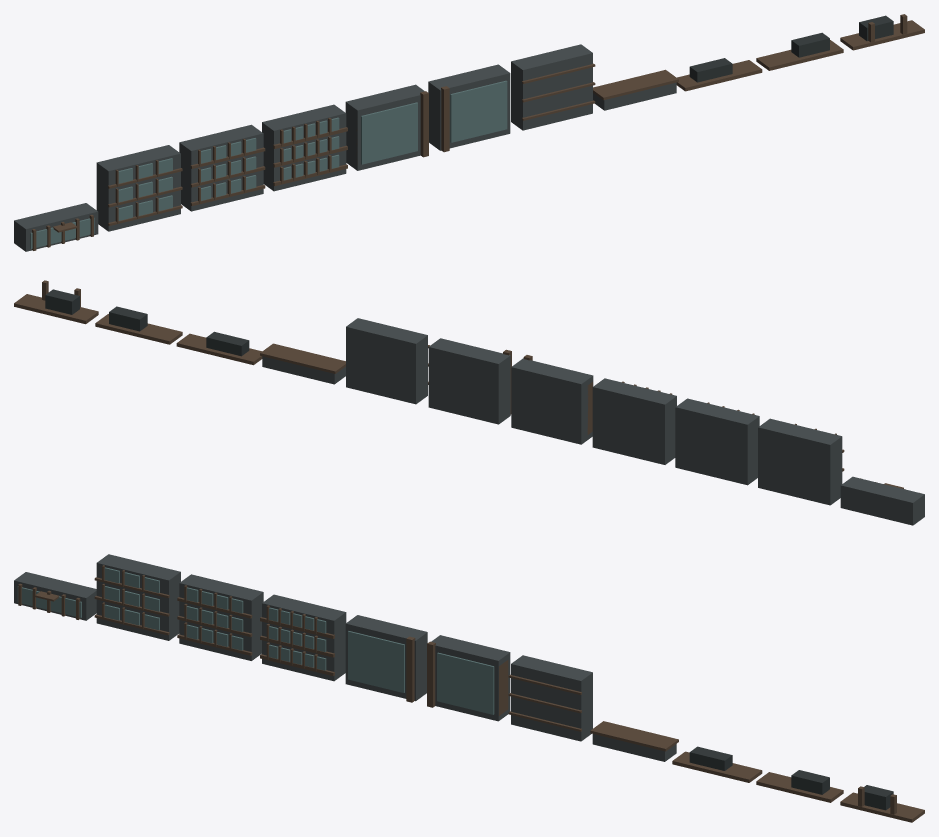
The model's file is bronze-vertical-modern.glb.
The picture shows the model from 3 angles, top to bottom: view 1: azimuth 30°, elevation 25°; view 2: azimuth 150°, elevation 25°; view 3: azimuth 330°, elevation 25°; orthographic projection.
Parts seen in each view (by area): view 1: middle-wall (×3), front-glass (×2), corner-wall (×2), party-wall, cornice (×3), roof-house (×3), base-shell, shoulder-cap, corner-pier (×2), shoulder, recessed-ground-floor; view 2: middle-wall (×3), corner-wall (×2), party-wall, base-shell, cornice (×3), roof-house (×3), shoulder-cap, shoulder; view 3: middle-wall (×3), front-glass (×2), party-wall, corner-wall (×2), cornice (×3), roof-house (×3), base-shell, shoulder-cap, corner-pier (×2), shoulder, recessed-ground-floor.
Part boxes in pixels (x1,y1,x2,y2): middle-wall (×3): [96, 104, 346, 231]; front-glass (×2): [361, 80, 507, 164]; corner-wall (×2): [345, 64, 510, 170]; party-wall: [511, 44, 592, 130]; cornice (×3): [676, 20, 924, 91]; roof-house (×3): [689, 15, 893, 82]; base-shell: [14, 203, 98, 251]; shoulder-cap: [593, 69, 678, 100]; corner-pier (×2): [420, 86, 449, 157]; shoulder: [593, 82, 676, 110]; recessed-ground-floor: [30, 218, 94, 248]; middle-wall (×3): [592, 378, 842, 505]; corner-wall (×2): [428, 338, 593, 444]; party-wall: [346, 318, 427, 404]; base-shell: [840, 476, 924, 525]; cornice (×3): [14, 294, 262, 365]; roof-house (×3): [45, 289, 249, 356]; shoulder-cap: [260, 343, 345, 373]; shoulder: [262, 356, 345, 384]; middle-wall (×3): [96, 554, 346, 681]; front-glass (×2): [348, 631, 494, 714]; party-wall: [511, 655, 592, 741]; corner-wall (×2): [345, 615, 510, 721]; cornice (×3): [672, 751, 924, 822]; roof-house (×3): [689, 746, 893, 810]; base-shell: [14, 572, 96, 620]; shoulder-cap: [590, 721, 678, 751]; corner-pier (×2): [406, 636, 435, 707]; shoulder: [592, 734, 676, 761]; recessed-ground-floor: [17, 586, 81, 617].
Bounding box in the file's own units: 43.49 × 2.9 × 1.53.
